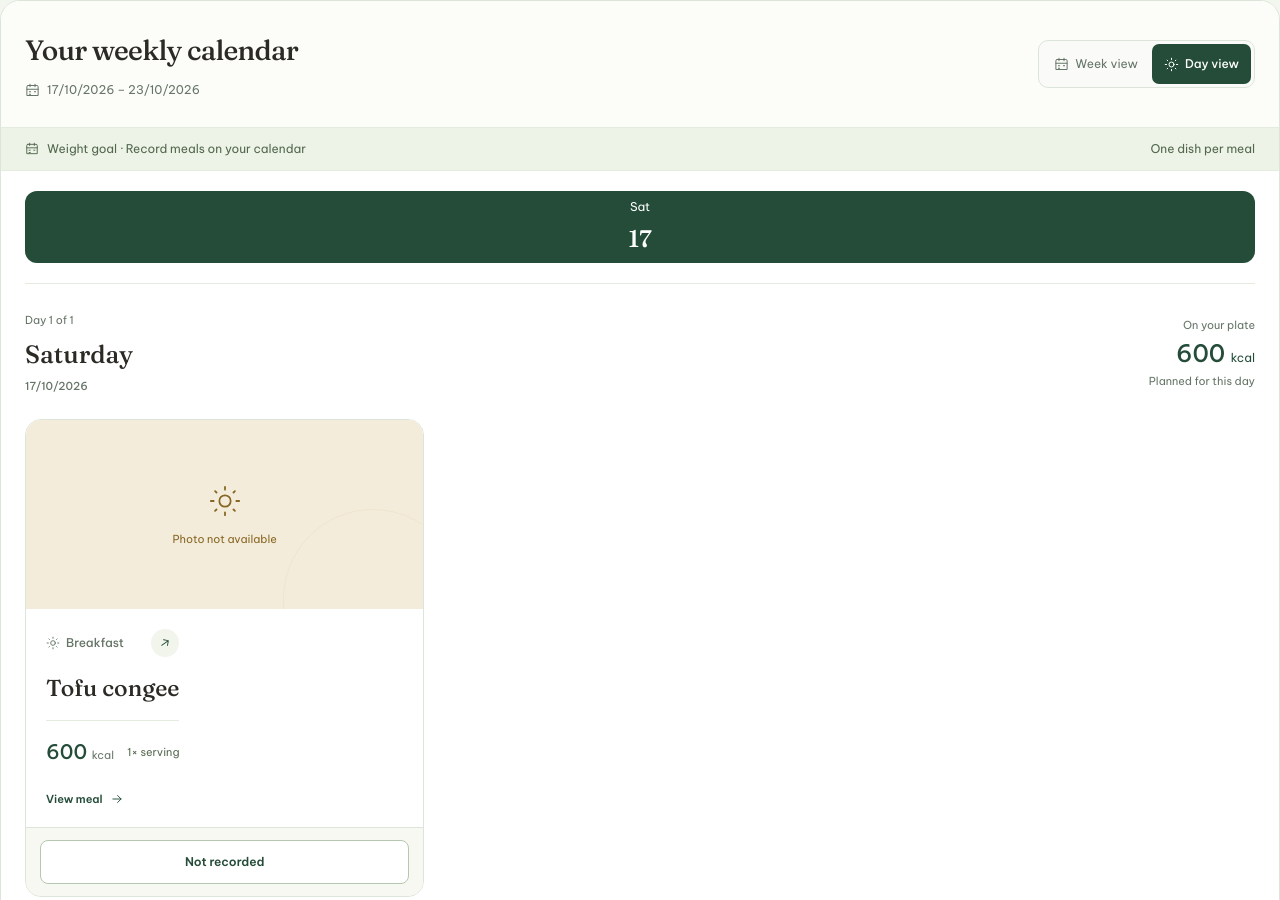
Test: week calendar uses the same two-state button without a combo box
Click the button "Week view" at [1096, 64], box 1042,44 -> 1150,84
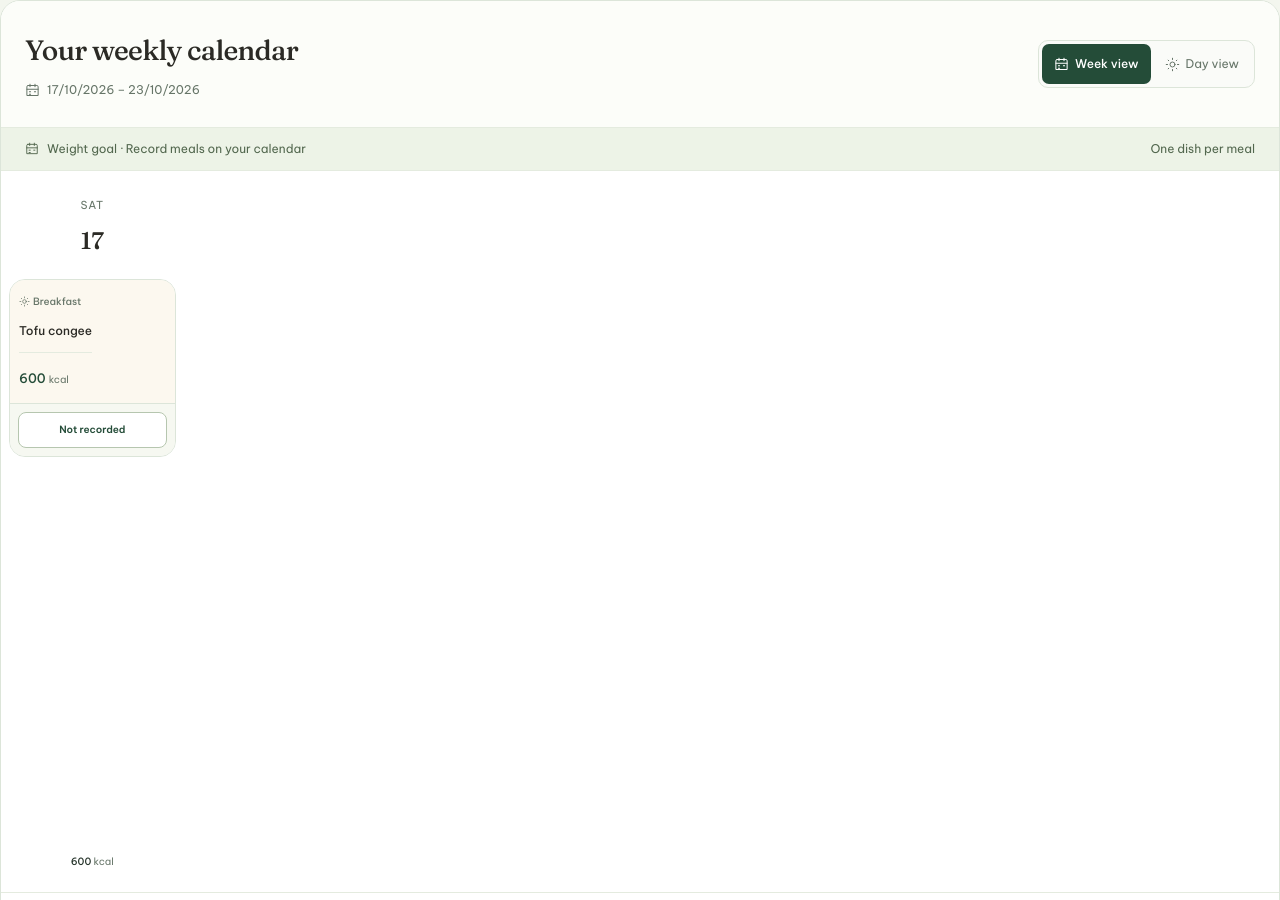
Click the button with class "wm-follow-button" at [92, 430], box 18,412 -> 167,448
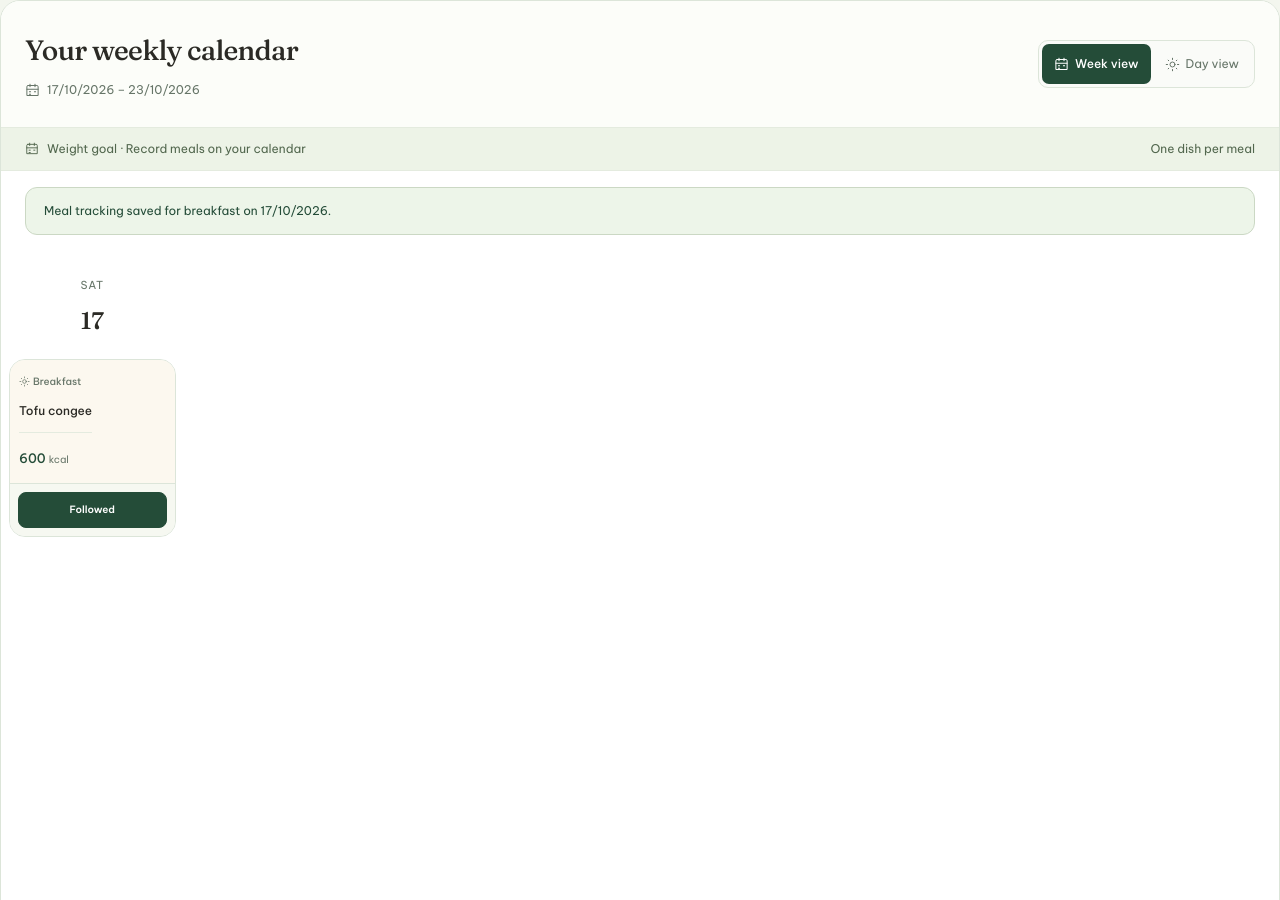
Expected: the button with class "wm-follow-button" reads "Followed", 18,492 -> 167,528
